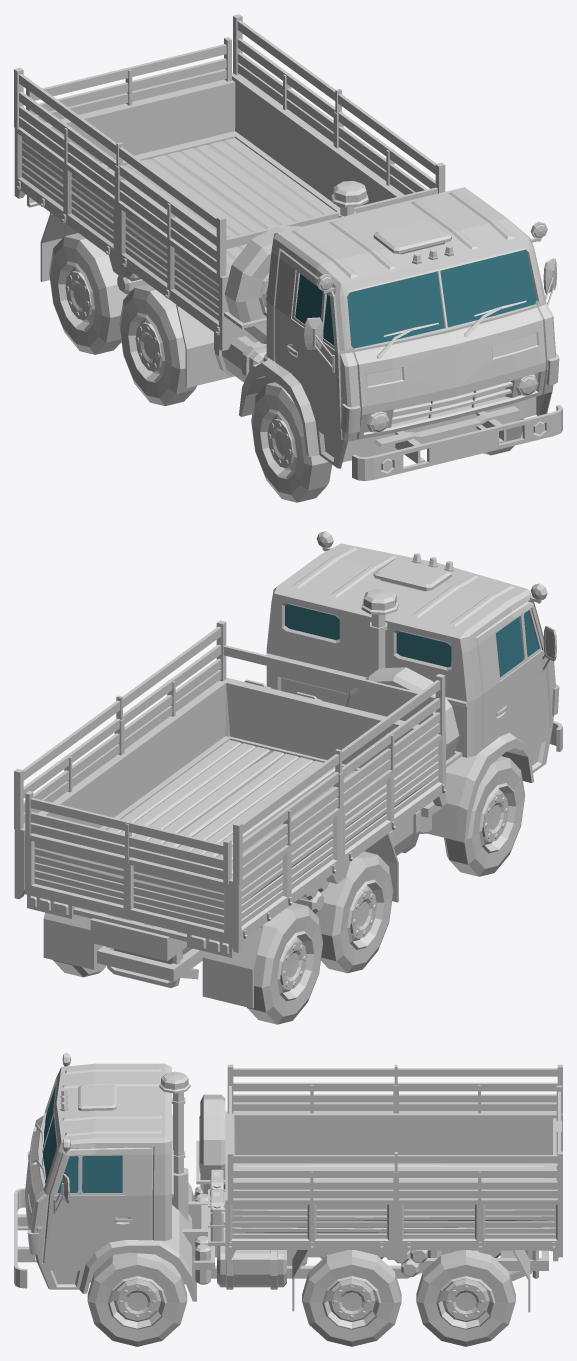
The picture shows the model from 3 angles, top to bottom: view 1: azimuth 30°, elevation 25°; view 2: azimuth 150°, elevation 25°; view 3: azimuth 270°, elevation 25°; orthographic projection. The views are drawn at different scales.
Visible parts, largest first — view 1: SM_Veh_Truck_Trailer_01, SM_Veh_Truck_01, SM_Veh_Truck_Glass_01, SM_Veh_Truck_Wheel_rr_02, SM_Veh_Truck_Wheel_rr_01, SM_Veh_Truck_Wheel_fr; view 2: SM_Veh_Truck_Trailer_01, SM_Veh_Truck_01, SM_Veh_Truck_Wheel_rr_01, SM_Veh_Truck_Wheel_rr_02, SM_Veh_Truck_Wheel_fr, SM_Veh_Truck_Glass_01; view 3: SM_Veh_Truck_Trailer_01, SM_Veh_Truck_01, SM_Veh_Truck_Wheel_rl_01, SM_Veh_Truck_Wheel_rl_02, SM_Veh_Truck_Wheel_fl, SM_Veh_Truck_Glass_01.
Boxes of the visible parts, box(x1,y1,x2,y2) form: SM_Veh_Truck_Trailer_01: box(14, 14, 445, 387); SM_Veh_Truck_01: box(27, 181, 562, 480); SM_Veh_Truck_Glass_01: box(295, 250, 536, 348); SM_Veh_Truck_Wheel_rr_02: box(49, 233, 128, 354); SM_Veh_Truck_Wheel_rr_01: box(119, 284, 196, 406); SM_Veh_Truck_Wheel_fr: box(251, 382, 332, 502); SM_Veh_Truck_Trailer_01: box(14, 620, 462, 1008); SM_Veh_Truck_01: box(27, 531, 562, 987); SM_Veh_Truck_Wheel_rr_01: box(315, 851, 393, 973); SM_Veh_Truck_Wheel_rr_02: box(247, 903, 323, 1024); SM_Veh_Truck_Wheel_fr: box(444, 756, 525, 876); SM_Veh_Truck_Glass_01: box(285, 604, 539, 677); SM_Veh_Truck_Trailer_01: box(196, 1064, 562, 1312); SM_Veh_Truck_01: box(14, 1053, 558, 1301); SM_Veh_Truck_Wheel_rl_01: box(302, 1250, 401, 1346); SM_Veh_Truck_Wheel_rl_02: box(416, 1250, 515, 1346); SM_Veh_Truck_Wheel_fl: box(87, 1252, 187, 1346); SM_Veh_Truck_Glass_01: box(43, 1084, 122, 1192).
Bounding box in the file's own units: 3.05 × 3.16 × 7.05.
